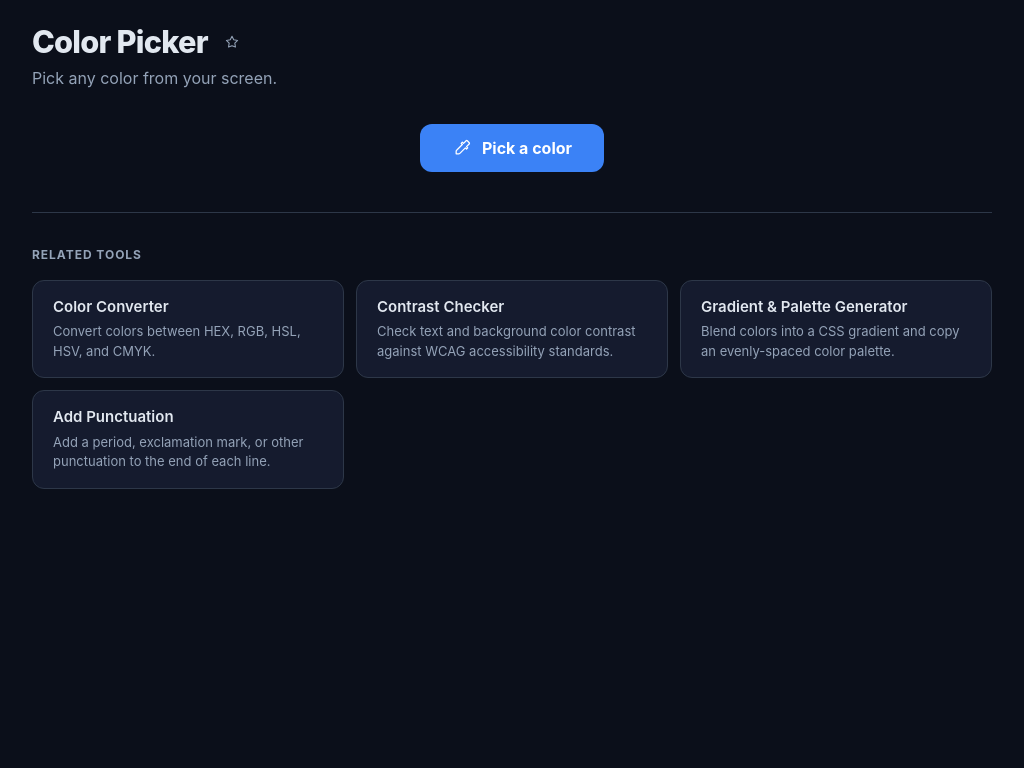
Scenario: ColorPicker — EyeDropper supported › shows picked color values after a successful pick
Click the button with aria-label "pick a color from the screen".
click(512, 148)  # box [420, 124, 604, 172]
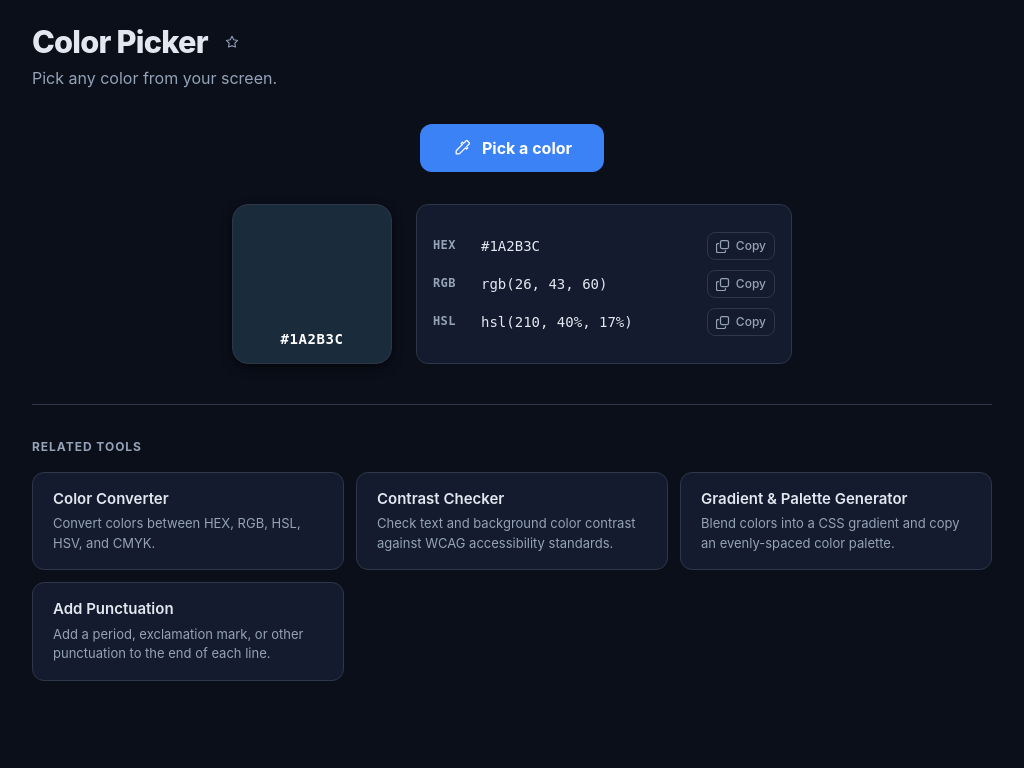
Check: the 2nd text "#1A2B3C" is shown, box [280, 328, 343, 351]
Check: the text "rgb(26, 43, 60)" is shown, box [481, 276, 607, 292]
